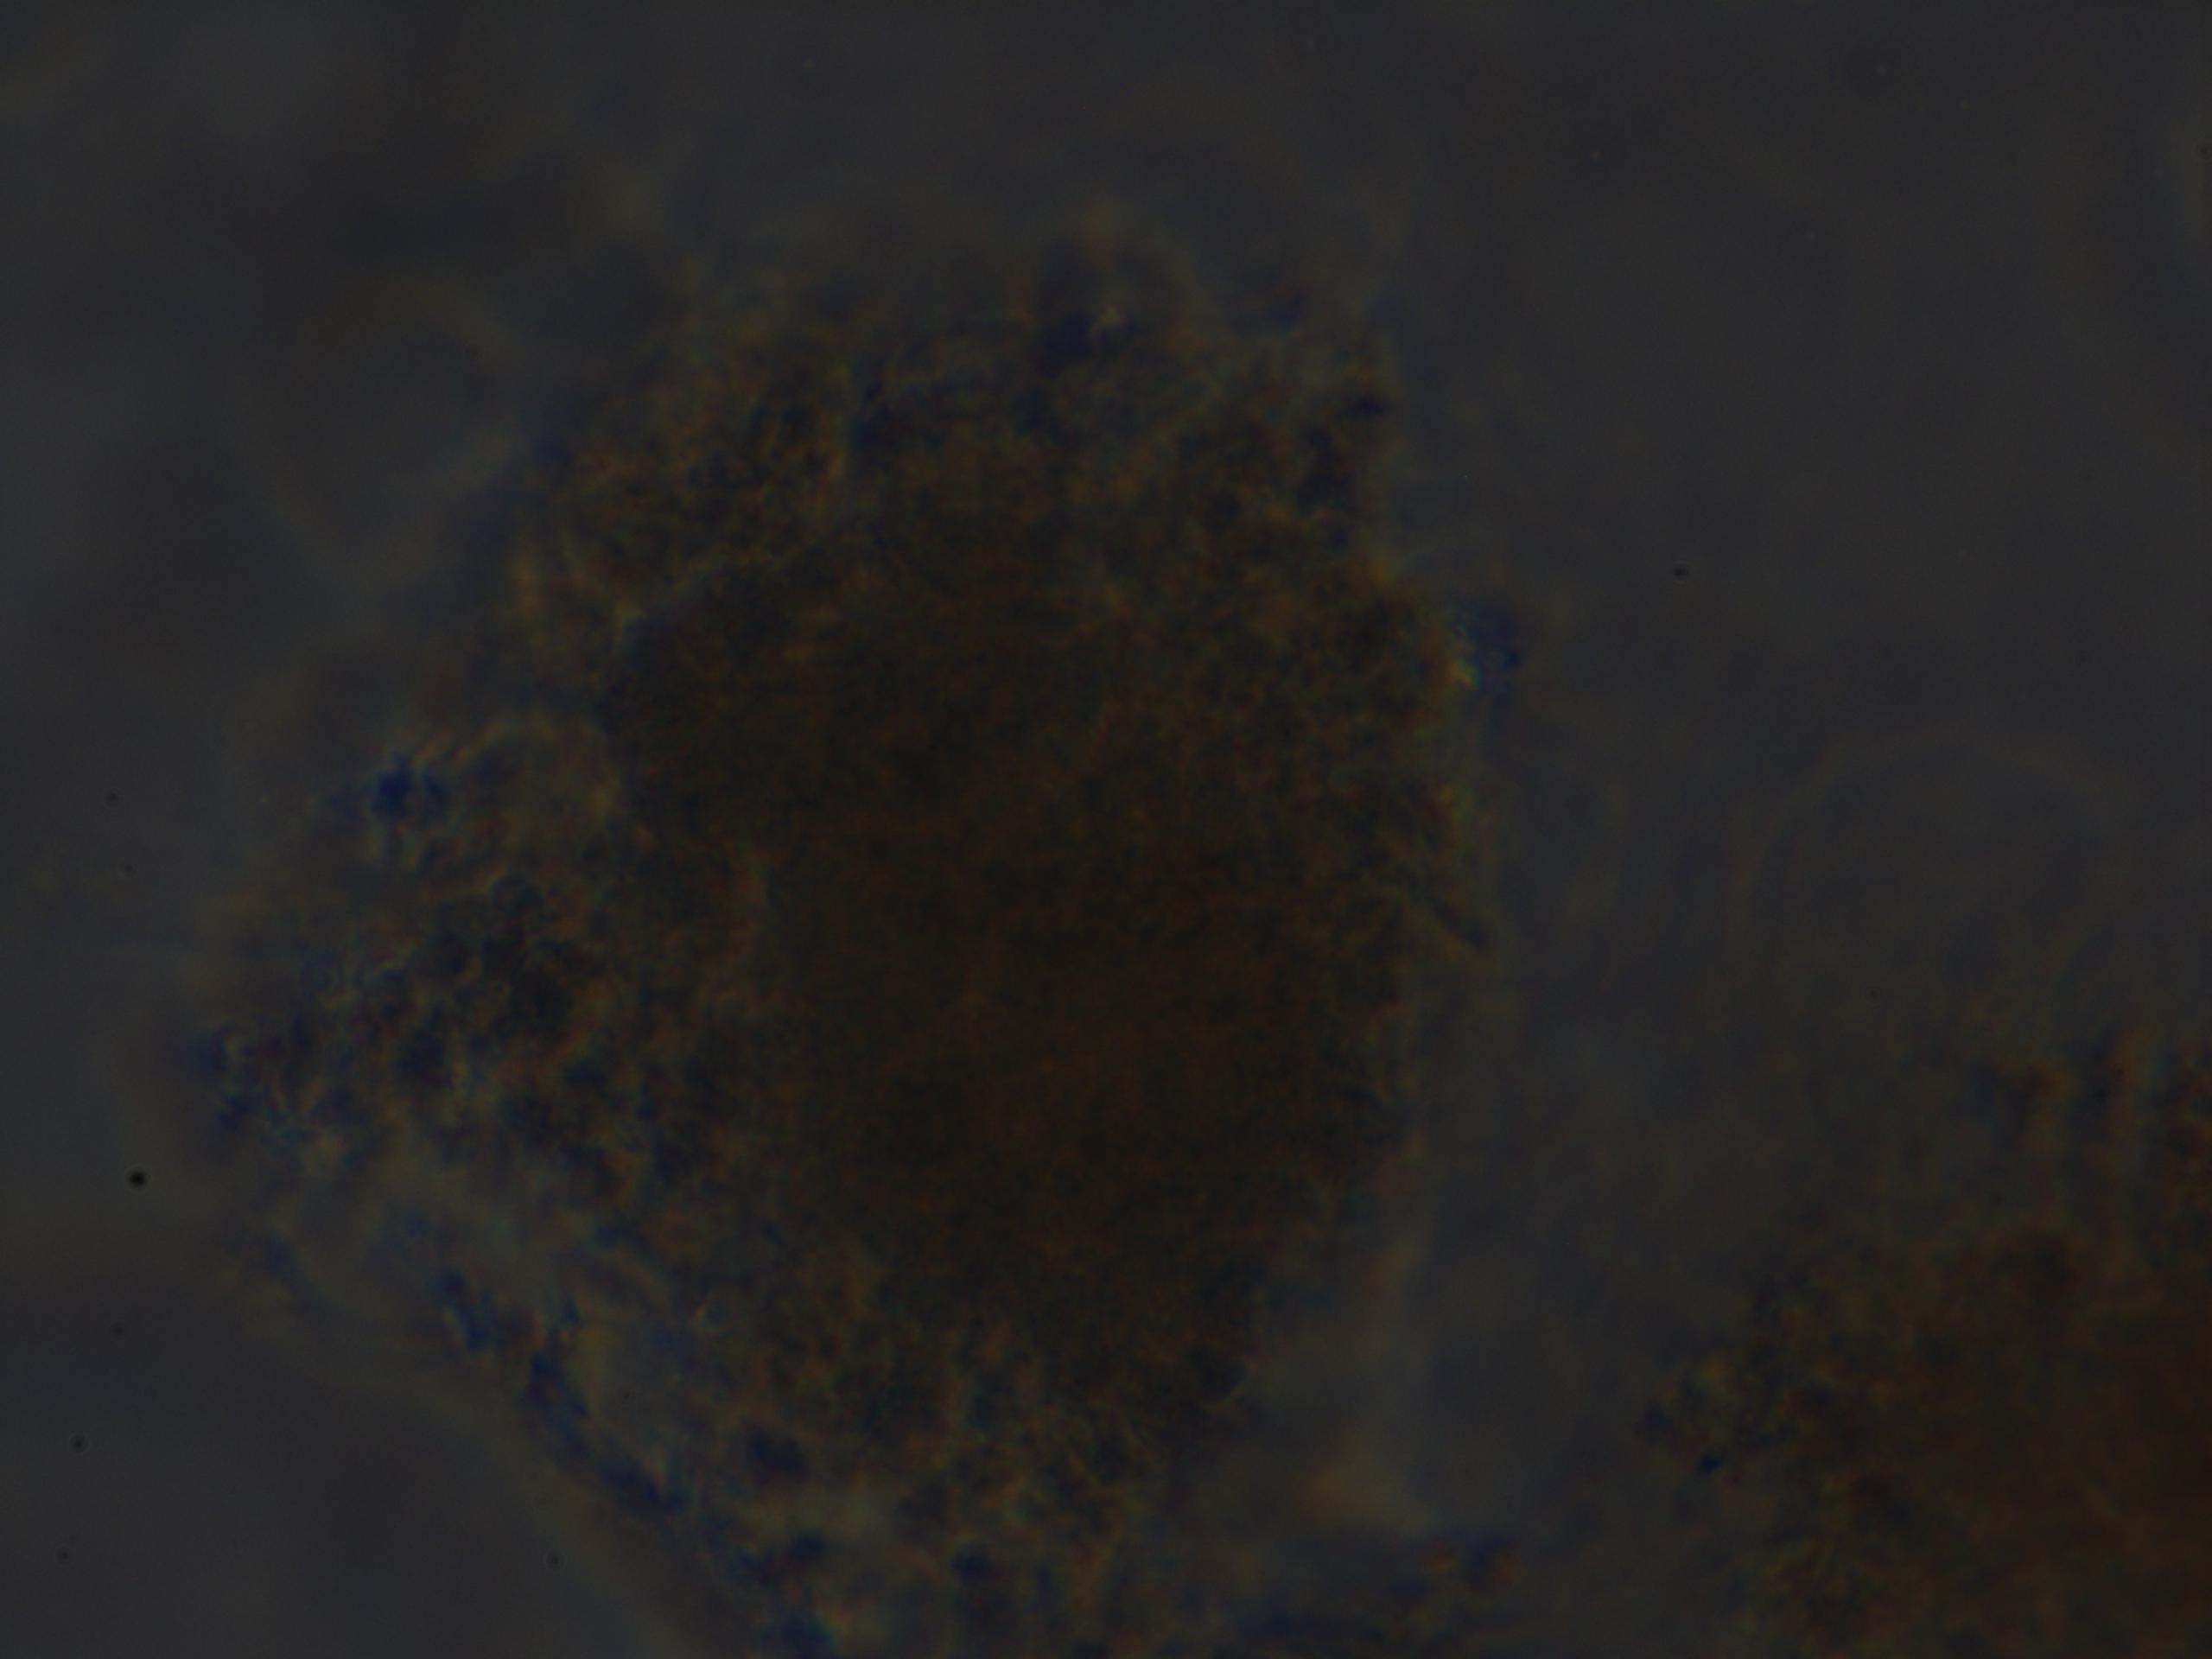spherical_floc: (333, 240, 1494, 1656)
